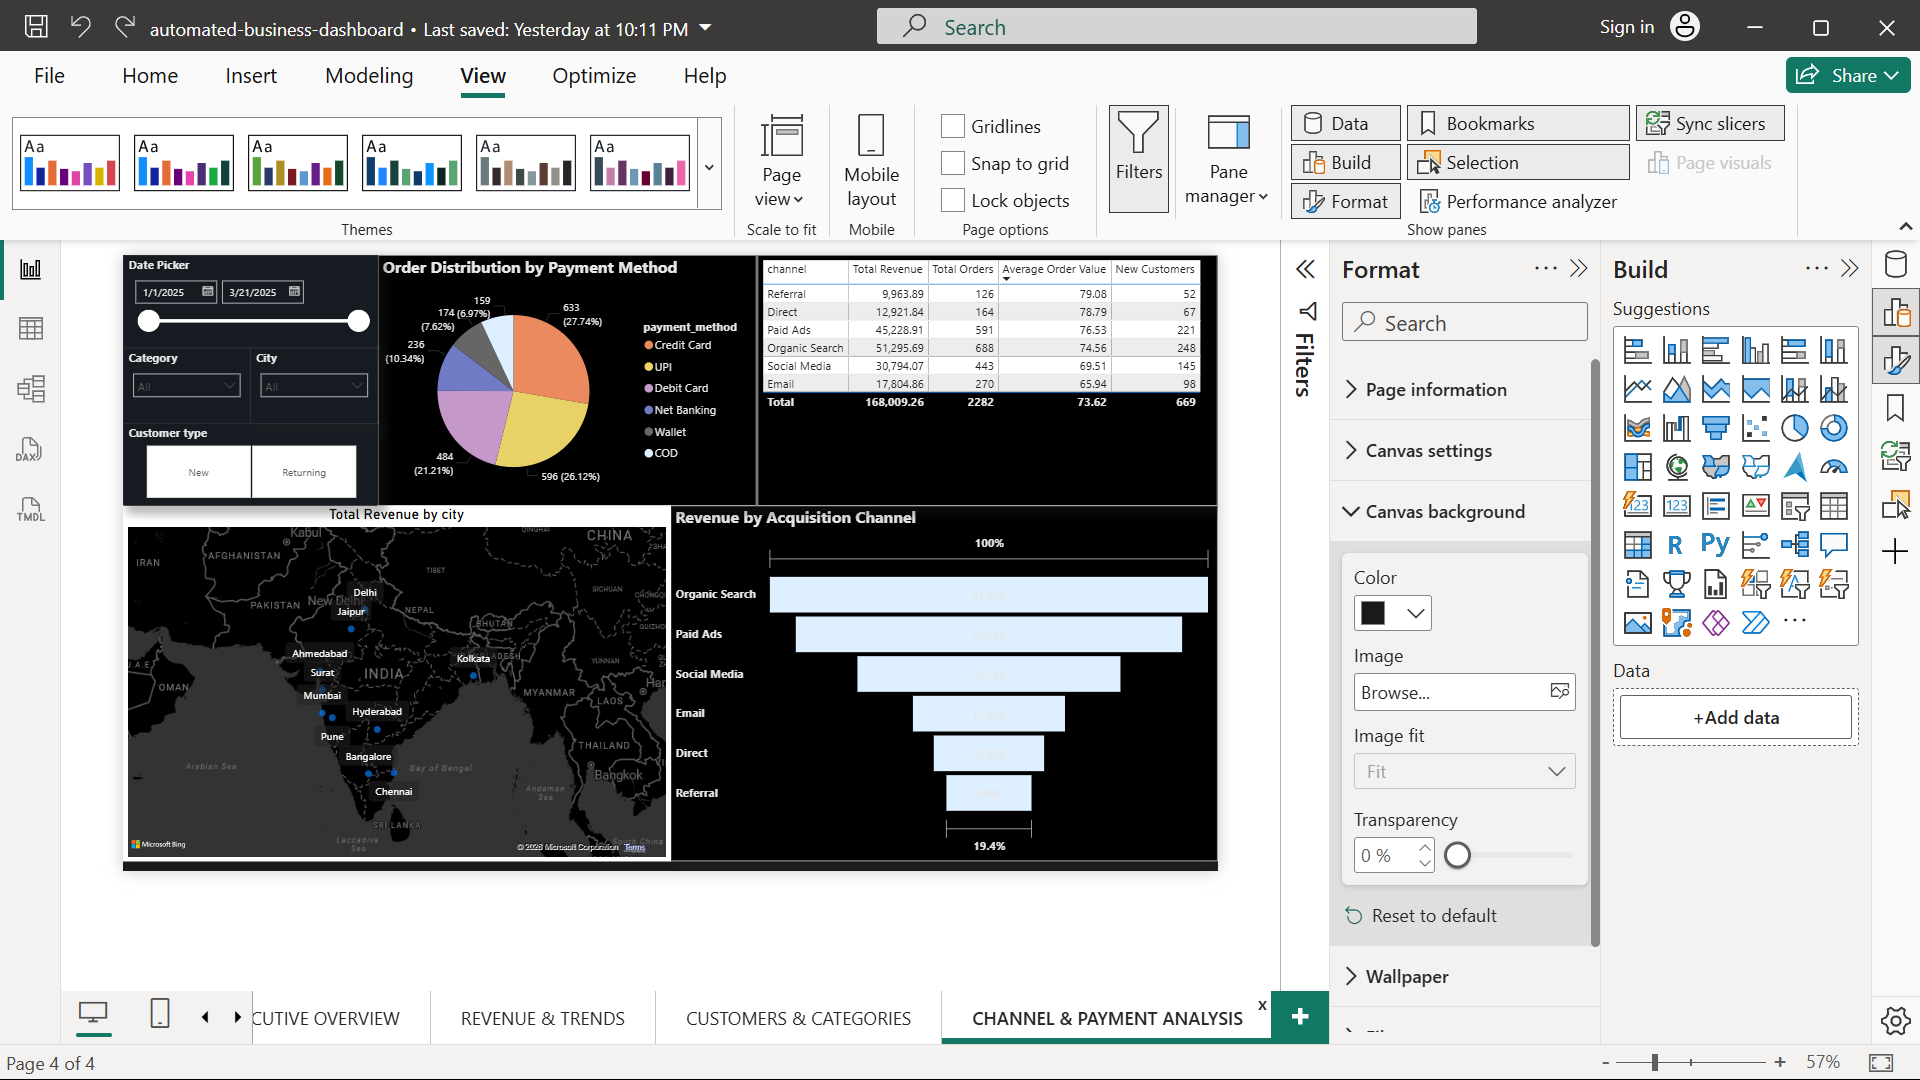

What the dashboard file says about the page in this screenshot:
{"tool":"powerbi","page":{"name":" CHANNEL & PAYMENT ANALYSIS ","canvas":[1280,720],"ordinal":3},"visuals":[{"type":"funnel","title":"Revenue by Acquisition Channel","fields":{"Category":["ecommerce_data.channel"],"Y":["Calendar.Total Revenue"]},"box":[639.7,293.7,639.7,415.9],"z":0},{"type":"pieChart","title":"Order Distribution by Payment Method","fields":{"Category":["ecommerce_data.payment_method"],"Y":["Calendar.Total Orders"]},"box":[298.4,0,442.9,293.7],"z":1000},{"type":"map","fields":{"Category":["ecommerce_data.city"],"Y":["Calendar.Total Revenue"]},"box":[0,293.7,639.7,415.9],"z":2000},{"type":"tableEx","title":"Revenue by Acquisition Channel","fields":{"Values":["ecommerce_data.channel","Calendar.Total Revenue","Calendar.Total Orders","Calendar.Average Order Value","Calendar.New Customers"]},"box":[741.3,0,538.1,293.7],"z":3000},{"type":"slicer","title":"Date Picker","fields":{"Values":["Calendar.Date"]},"box":[0,0,298.4,107.9],"z":4000},{"type":"slicer","title":"Category","fields":{"Values":["ecommerce_data.category"]},"box":[0,107.9,149.2,88.9],"z":5000},{"type":"slicer","title":"Customer type","fields":{"Values":["ecommerce_data.customer_type"]},"box":[0,196.8,298.4,96.8],"z":6000},{"type":"slicer","title":"City","fields":{"Values":["ecommerce_data.city"]},"box":[149.2,107.9,149.2,88.9],"z":7000}]}

Visuals, with their boxes on the page's 1280x720 design canvas (x1, y1, x2, y2). These are canvas units, not pixel positions in the 1920x1080 screenshot, which may show the page scaled, cropped or inside an application window:
"Revenue by Acquisition Channel" funnel: 640, 294, 1279, 710
"Order Distribution by Payment Method" pieChart: 298, 0, 741, 294
map - ecommerce_data.city x Calendar.Total Revenue: 0, 294, 640, 710
"Revenue by Acquisition Channel" tableEx: 741, 0, 1279, 294
"Date Picker" slicer: 0, 0, 298, 108
"Category" slicer: 0, 108, 149, 197
"Customer type" slicer: 0, 197, 298, 294
"City" slicer: 149, 108, 298, 197
